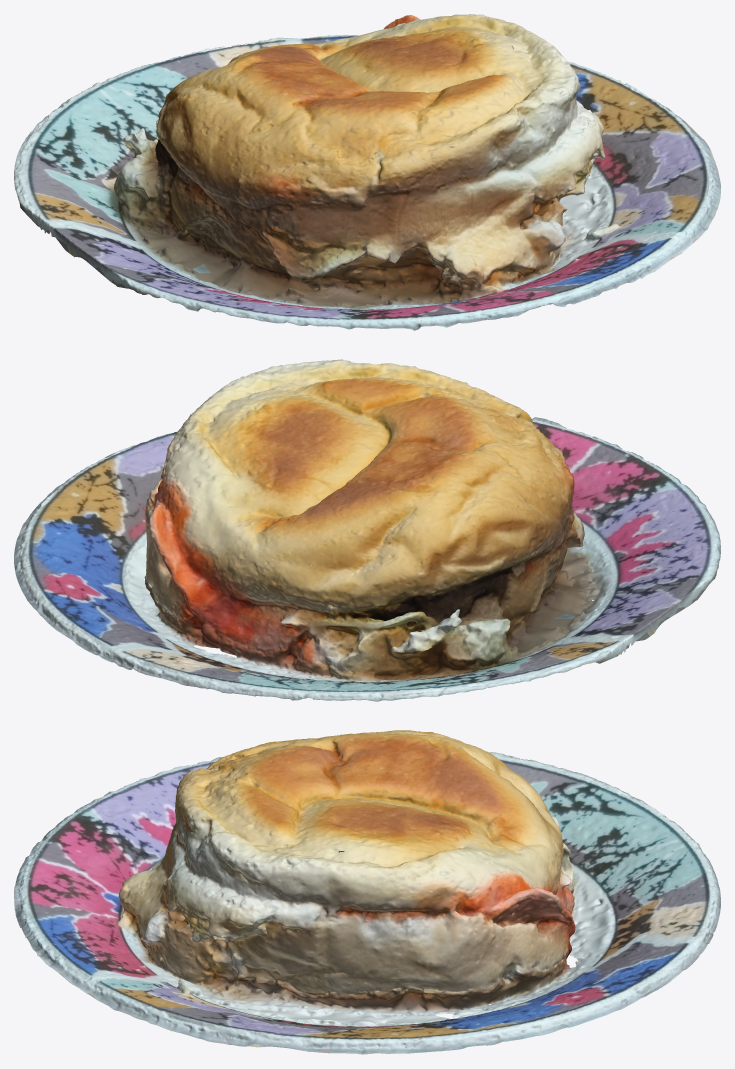
3 views of the same model, one above another, from view 1: azimuth 30°, elevation 25°; view 2: azimuth 150°, elevation 25°; view 3: azimuth 270°, elevation 25° (orthographic).
Parts seen in each view (by area): view 1: Mesh_0_Part_0; view 2: Mesh_0_Part_0; view 3: Mesh_0_Part_0.
Part boxes in pixels (<box>): Mesh_0_Part_0: <box>14,14,720,330</box>; Mesh_0_Part_0: <box>14,359,720,701</box>; Mesh_0_Part_0: <box>14,730,720,1054</box>.
Bounding box in the file's own units: 0.3877 × 0.1072 × 0.3979.
1 material, 1 textured.
